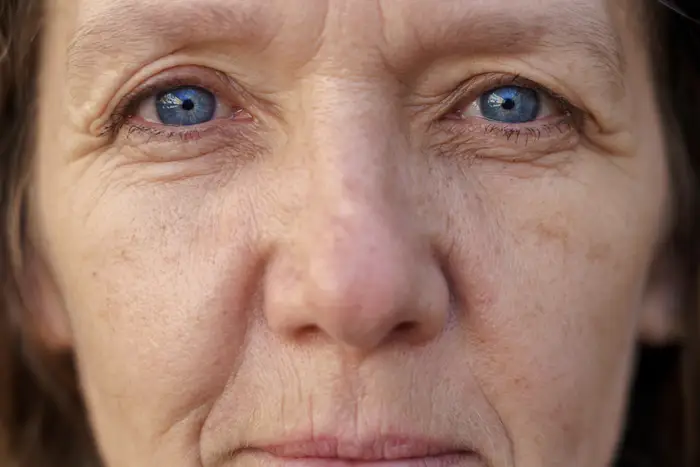Kerutan: (146, 235, 297, 467), (415, 115, 649, 194), (69, 126, 290, 198), (451, 326, 550, 467)
